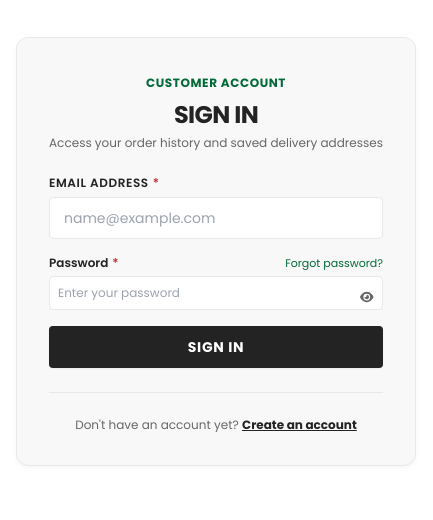
Test case: Phase 9: Authentication & Account Component Suite (AUTH-01 to AUTH-10) › AUTH-05: Login with wrong password or unknown email displays identical error message
Type "unknown@supplivix.com" into the field labelled "Email Address*" at (216, 218), box x1=49 y1=197 x2=383 y2=239
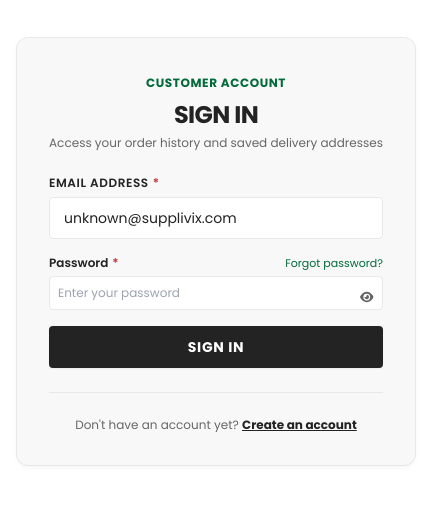
Type "WrongPass!" into the password field with placeholder "Enter your password" at (216, 293), box x1=49 y1=276 x2=383 y2=310
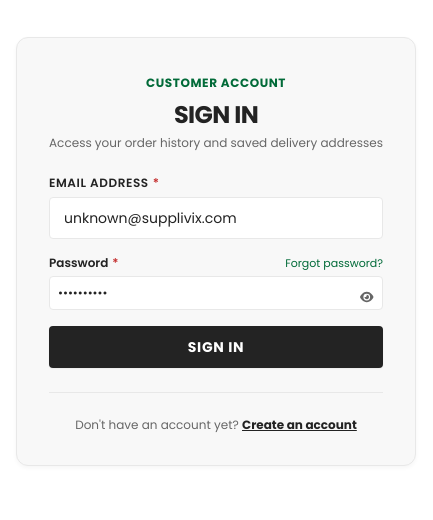
Click the button "Sign In" at (216, 347), box x1=49 y1=326 x2=383 y2=368
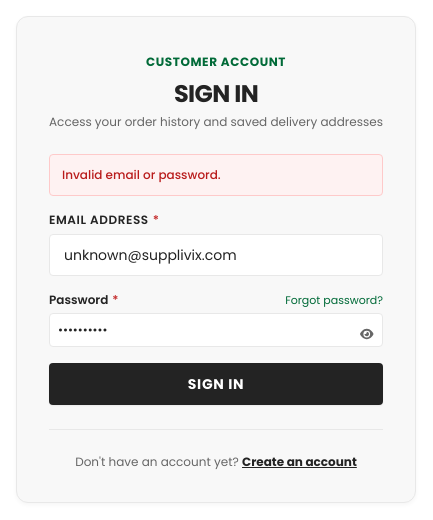
Expected: the text "Invalid email or password." is shown, x1=49 y1=154 x2=383 y2=196
